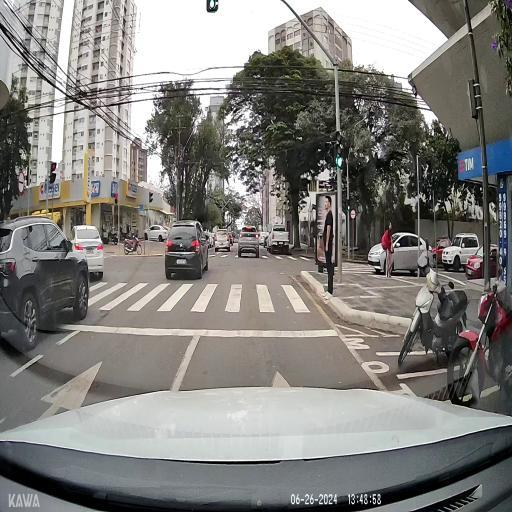R-24a: (18, 168, 24, 194), (350, 209, 356, 219)
